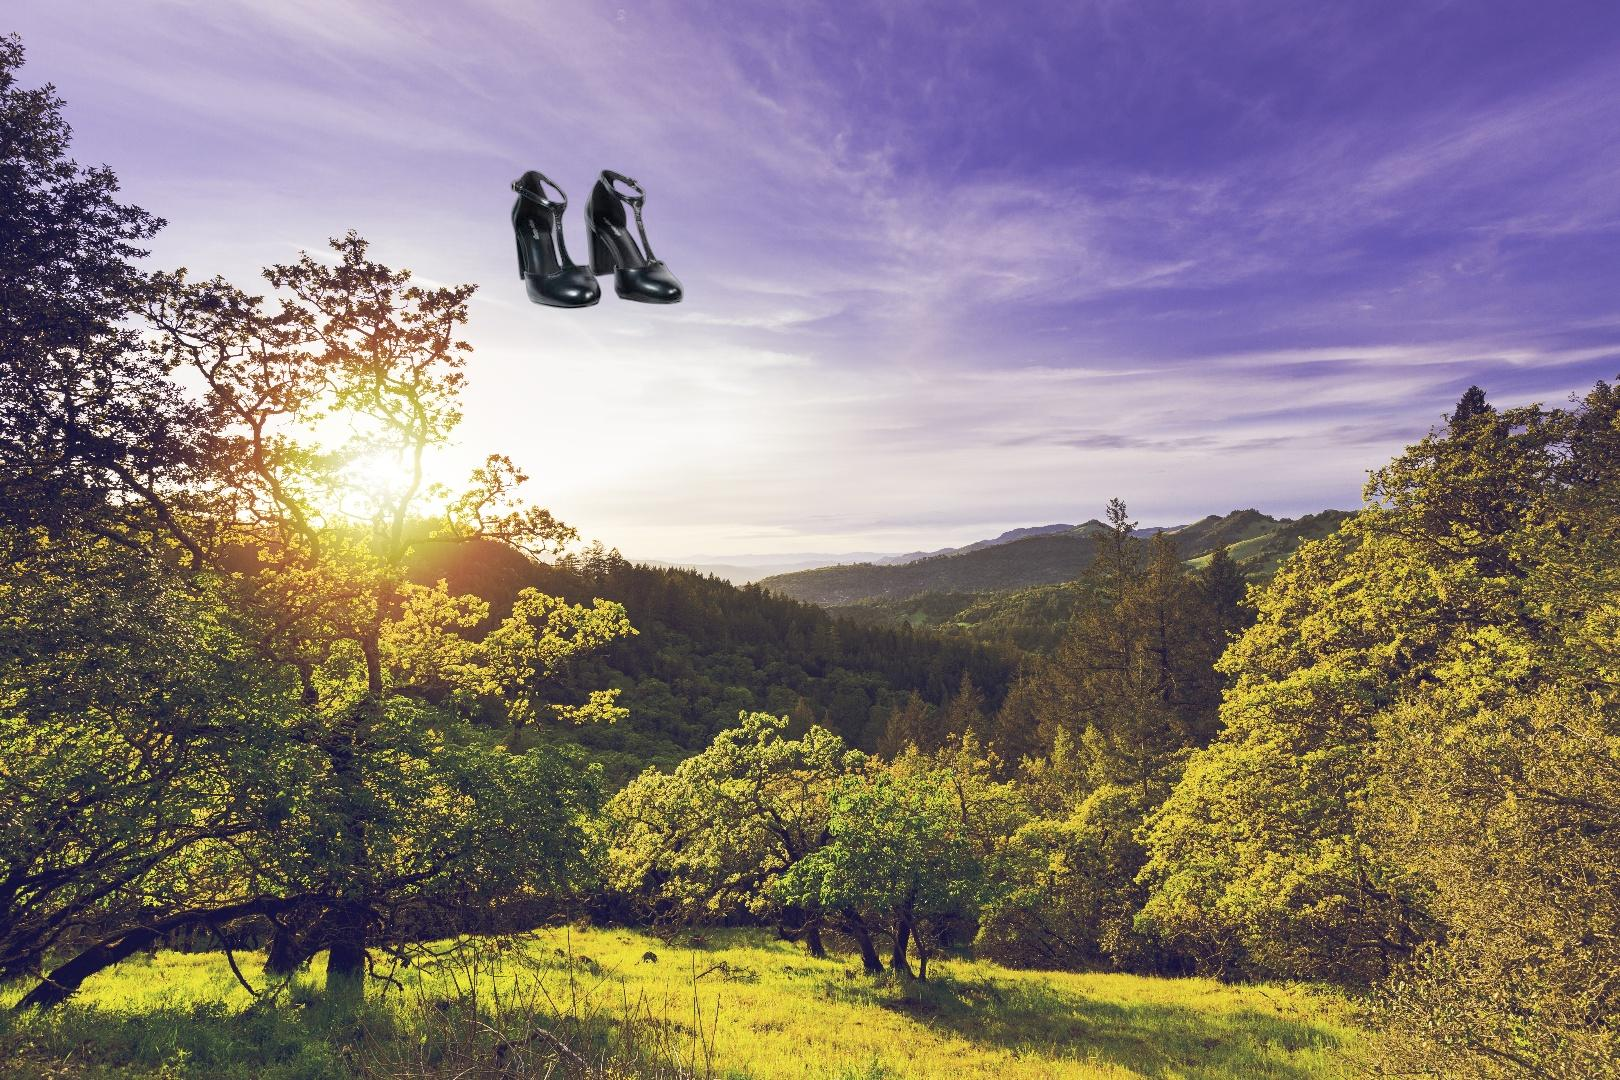shoes: (507, 168, 686, 311)
